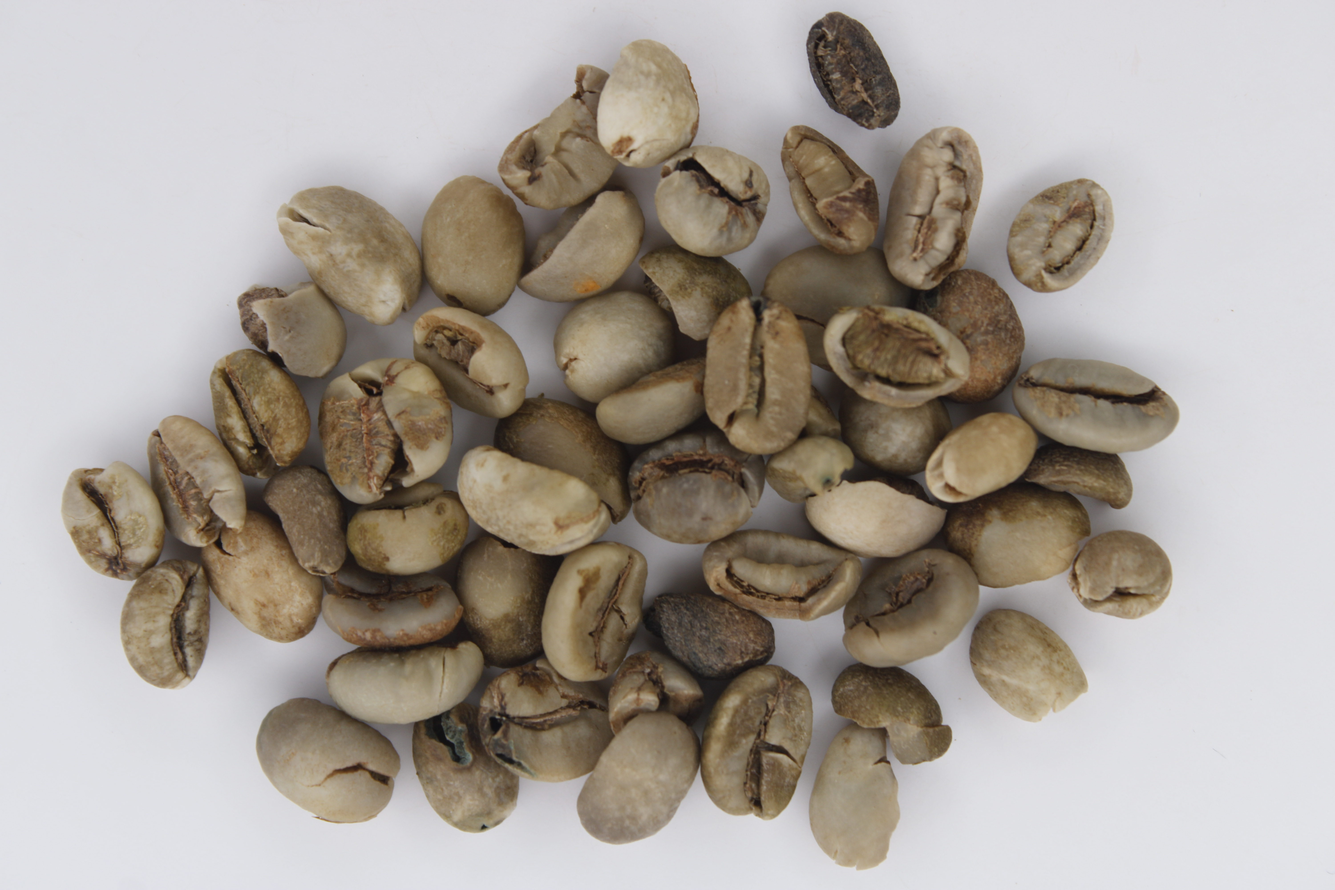Full Black: (414, 270, 726, 489), (615, 595, 1048, 661)
